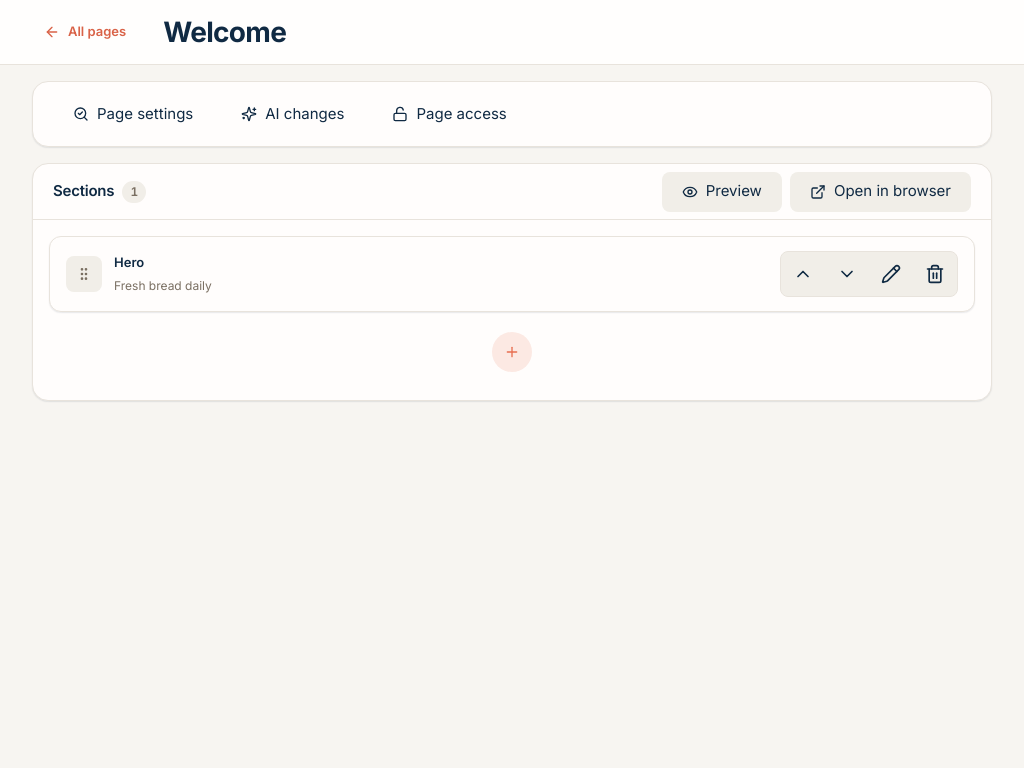
Test: the AI draft of a description › it names the exact field, is only a proposal, and says it has not seen the picture
Expected: the text "Hero" is shown, [114,253,144,273]
Click the button named "Edit Hero": {"x": 891, "y": 274} [871,254,911,294]
(page scrolled)
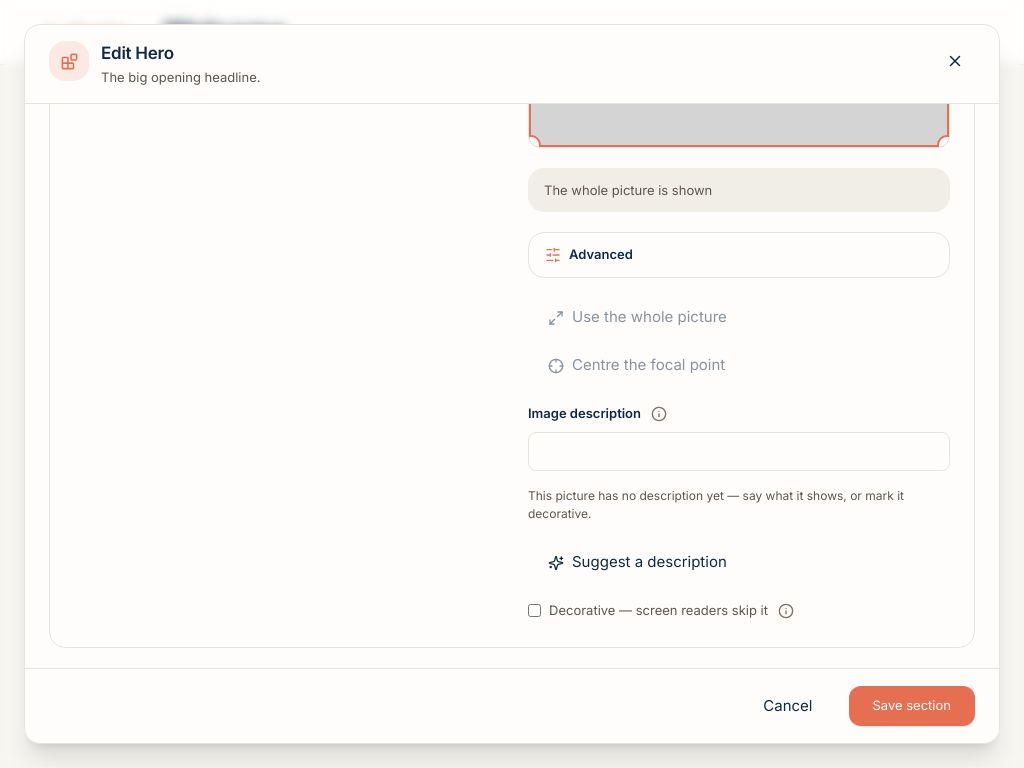
Expected: the field named "Image description" is shown, [528,432,950,470]
Click the button "Suggest a description": {"x": 637, "y": 562} [528,542,747,582]
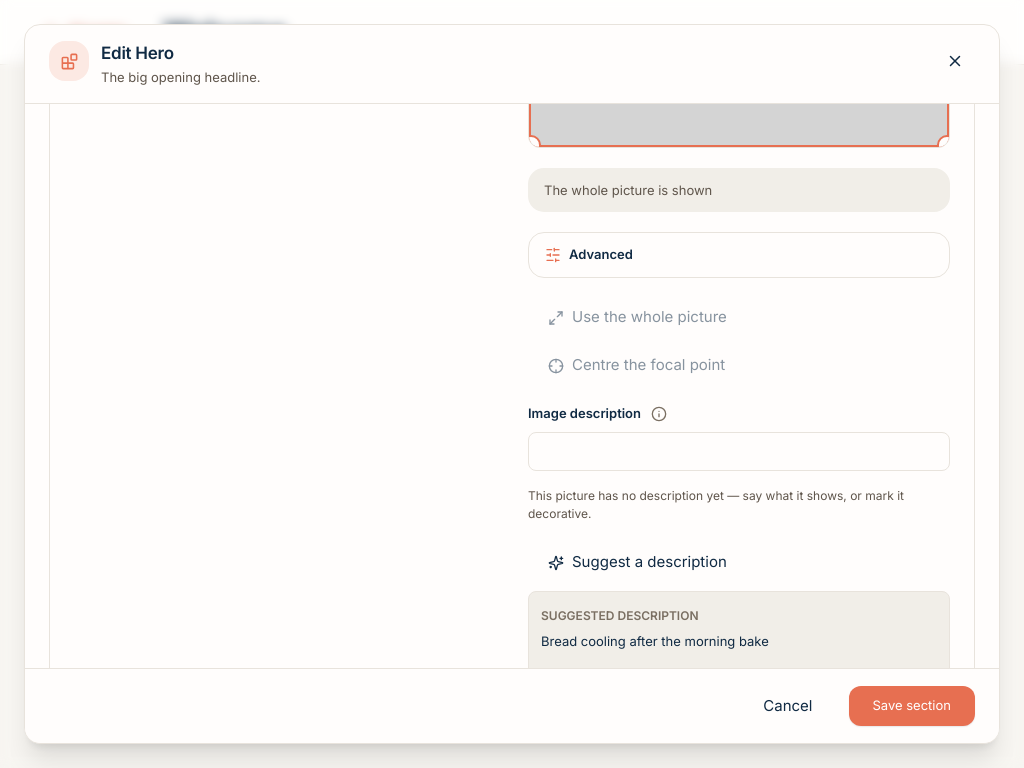
Now the text "Bread cooling after the morning bake" is shown, box [541,633,769,649]
